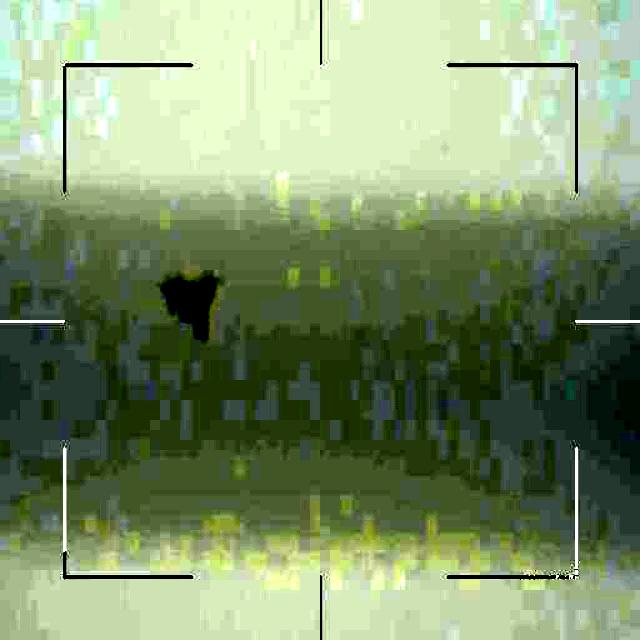bird: (158, 269, 230, 349)
